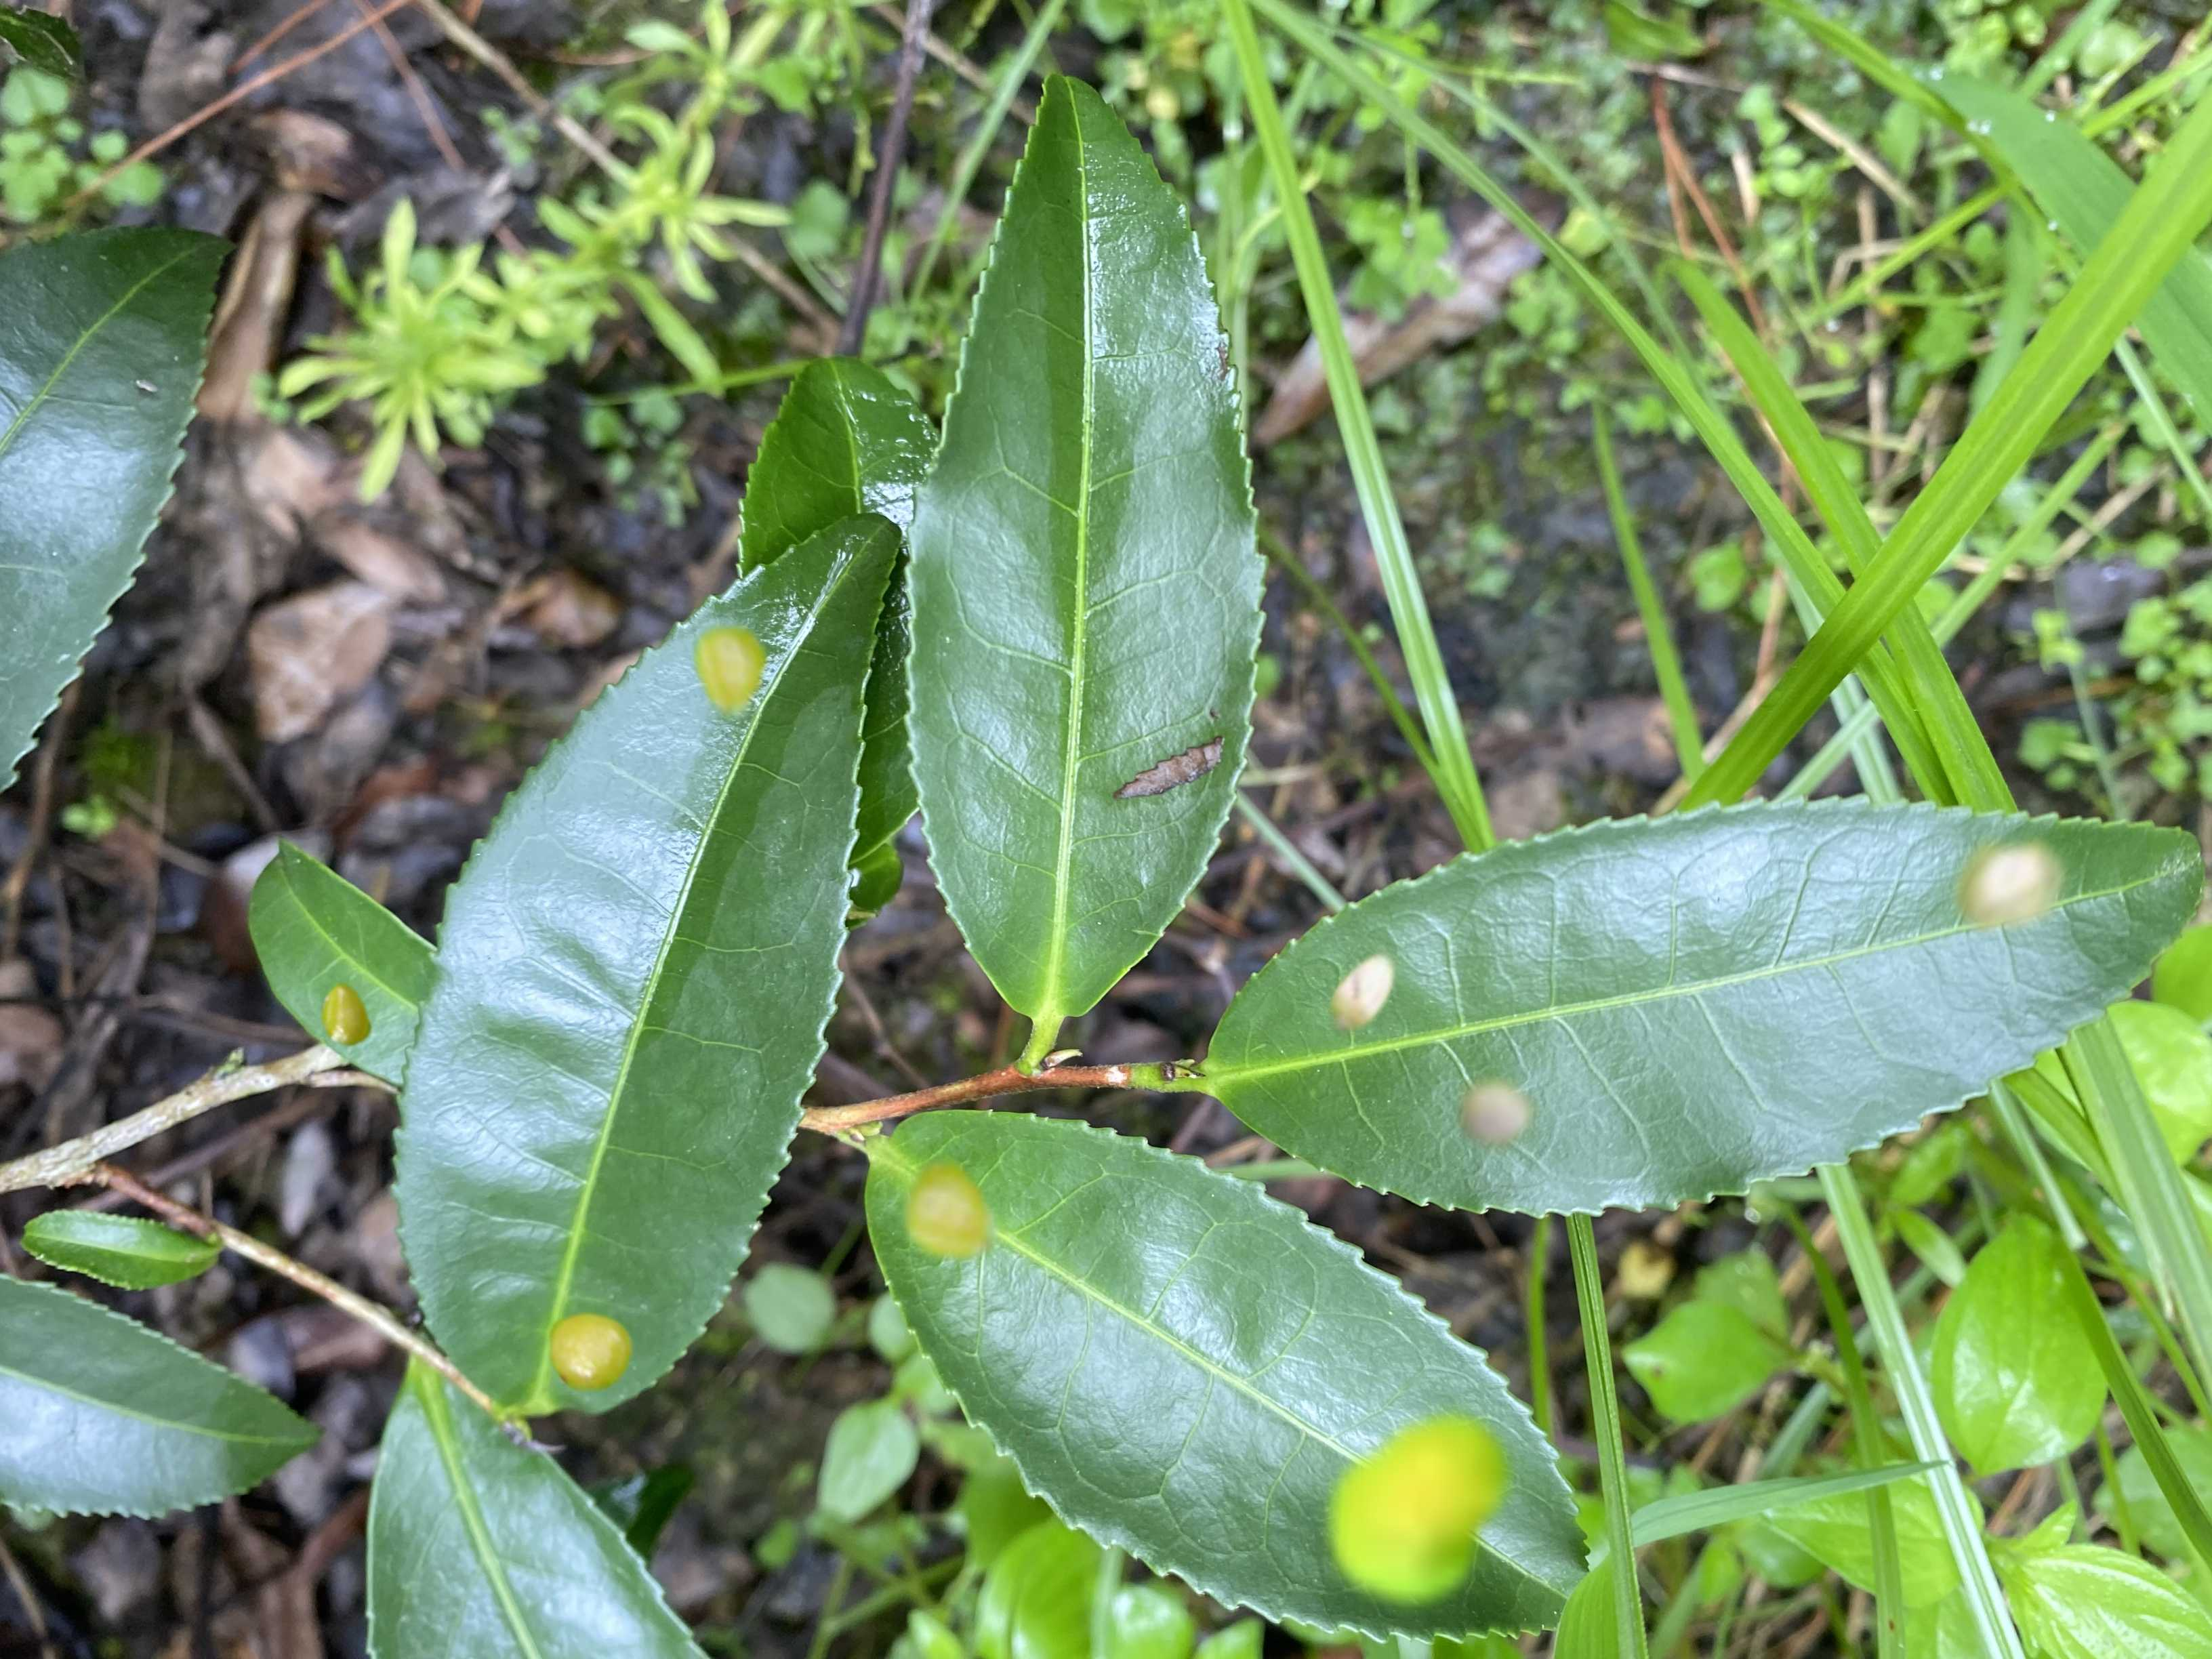chabing_high: (392, 512, 897, 1432), (1198, 791, 2207, 1225), (860, 1110, 1594, 1647)
chabing_low: (246, 838, 425, 1082)
healthy: (2, 1274, 326, 1527), (17, 1208, 225, 1290)
tanju_low: (900, 73, 1273, 1028)
